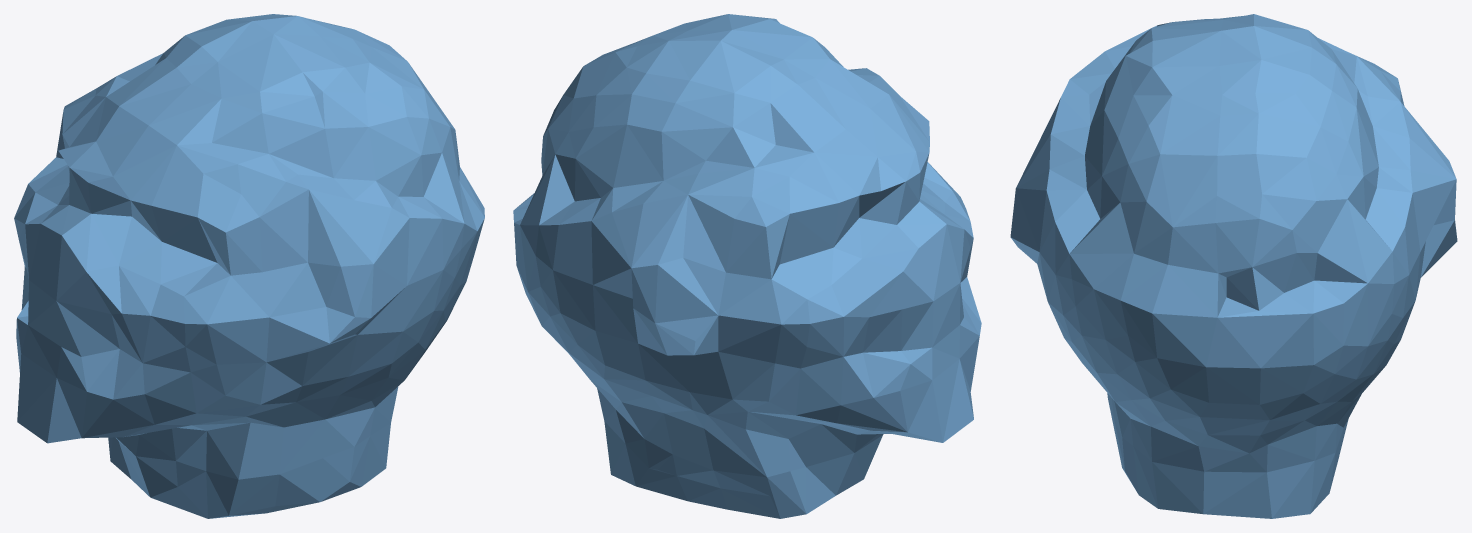
File: zombie_4.glb
3 renders of one model, left to right at view 1: azimuth 30°, elevation 25°; view 2: azimuth 150°, elevation 25°; view 3: azimuth 270°, elevation 25°, orthographic. The views are drawn at different scales.
Parts seen in each view (by area): view 1: world; view 2: world; view 3: world.
Part boxes in pixels (left/top/right/bottom): world: left=14, top=14, right=484, bottom=518; world: left=513, top=14, right=981, bottom=518; world: left=1010, top=14, right=1457, bottom=518.
Bounding box in the file's own units: 1.17 × 1.18 × 1.06.
